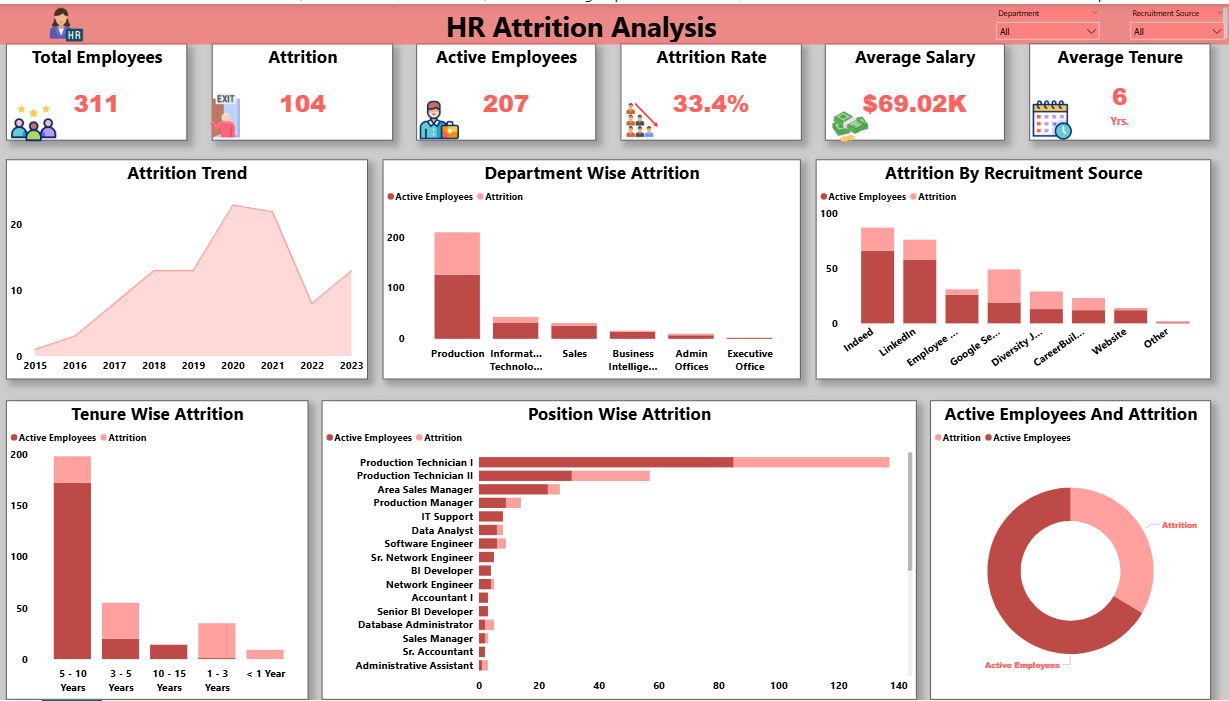

The dashboard page shown, as its layout file describes it:
{"tool":"powerbi","page":{"name":"Page 1","canvas":[1920,1080],"ordinal":0},"visuals":[{"type":"card","title":"Total Employees","fields":{"Values":["employees.total employees"]},"box":[19.4,60.5,280.8,150.1],"z":0},{"type":"card","title":"Attrition ","fields":{"Values":["employees.Attrition"]},"box":[338,60.5,280.8,150.1],"z":1000},{"type":"card","title":"Active Employees","fields":{"Values":["employees.active employees"]},"box":[656.6,60.5,278.4,150.1],"z":2000},{"type":"card","title":"Attrition Rate","fields":{"Values":["employees.Attrition Rate"]},"box":[972.8,60.5,280.8,150.1],"z":3000},{"type":"card","title":"Average Salary","fields":{"Values":["Avg(employees.Salary)"]},"box":[1291.4,60.5,278.4,150.1],"z":4000},{"type":"columnChart","title":" Department Wise Attrition","fields":{"Category":["positions.Department"],"Y":["employees.active employees","employees.Attrition"]},"box":[603.7,241.5,648.7,340.9],"z":5000},{"type":"barChart","title":"Position Wise Attrition","fields":{"Category":["positions.Position"],"Y":["employees.active employees","employees.Attrition"]},"box":[509,615.6,923.4,464.1],"z":6000},{"type":"columnChart","title":"Attrition By Recruitment Source","fields":{"Category":["employees.RecruitmentSource"],"Y":["employees.active employees","employees.Attrition"]},"box":[1276.1,241.5,613.2,340.9],"z":7000},{"type":"donutChart","title":"Active Employees And Attrition","fields":{"Y":["employees.Attrition","employees.active employees"]},"box":[1453.7,615.6,435.6,464.1],"z":8000},{"type":"textbox","box":[0,0,1920.7,62.7],"z":9000},{"type":"card","title":"Average Tenure","fields":{"Values":["employees.Avg tenure"]},"box":[1607.6,60.5,280.8,150.1],"z":10000},{"type":"columnChart","title":"Tenure Wise Attrition","fields":{"Category":["employees.Tenure Bucket"],"Y":["employees.active employees","employees.Attrition"]},"box":[18.9,615.6,468.8,464.1],"z":11000},{"type":"slicer","fields":{"Values":["positions.Department"]},"box":[1546,0,179.9,61.6],"z":12000},{"type":"slicer","fields":{"Values":["employees.RecruitmentSource"]},"box":[1754.4,0,166.3,62.7],"z":13000},{"type":"areaChart","title":"Attrition Trend","fields":{"Category":["employees.DateOfTermination.Variation.Date Hierarchy.Year","employees.DateOfTermination.Variation.Date Hierarchy.Quarter","employees.DateOfTermination.Variation.Date Hierarchy.Month","employees.DateOfTermination.Variation.Date Hierarchy.Day"],"Y":["CountNonNull(employees.DateOfTermination)"]},"box":[18.9,241.5,561.1,340.9],"z":15000},{"type":"image","box":[47.4,0,130.2,63.9],"z":16000},{"type":"image","box":[639.3,144.4,104.2,71],"z":17000},{"type":"image","box":[9.5,144.4,104.2,80.5],"z":18000},{"type":"image","box":[961.2,144.4,90,71],"z":19000},{"type":"image","box":[317.3,130.2,82.9,85.2],"z":20000},{"type":"image","box":[1586.3,144.4,113.6,71],"z":21000},{"type":"image","box":[1292.7,156.3,73.4,68],"z":22000}]}

Visuals, with their boxes in screenshot pixels (x1, y1, x2, y2), scaled from the page's 1920x1080 canvas onto the 1229x701 screenshot:
"Total Employees" card: [12, 39, 192, 137]
"Attrition " card: [216, 39, 396, 137]
"Active Employees" card: [420, 39, 598, 137]
"Attrition Rate" card: [623, 39, 802, 137]
"Average Salary" card: [827, 39, 1005, 137]
" Department Wise Attrition" columnChart: [386, 157, 802, 378]
"Position Wise Attrition" barChart: [326, 400, 917, 700]
"Attrition By Recruitment Source" columnChart: [817, 157, 1209, 378]
"Active Employees And Attrition" donutChart: [931, 400, 1209, 700]
textbox: [0, 0, 1228, 41]
"Average Tenure" card: [1029, 39, 1209, 137]
"Tenure Wise Attrition" columnChart: [12, 400, 312, 700]
slicer - positions.Department: [990, 0, 1105, 40]
slicer - employees.RecruitmentSource: [1123, 0, 1228, 41]
"Attrition Trend" areaChart: [12, 157, 371, 378]
image: [30, 0, 114, 41]
image: [409, 94, 476, 140]
image: [6, 94, 73, 146]
image: [615, 94, 673, 140]
image: [203, 85, 256, 140]
image: [1015, 94, 1088, 140]
image: [827, 101, 874, 146]
